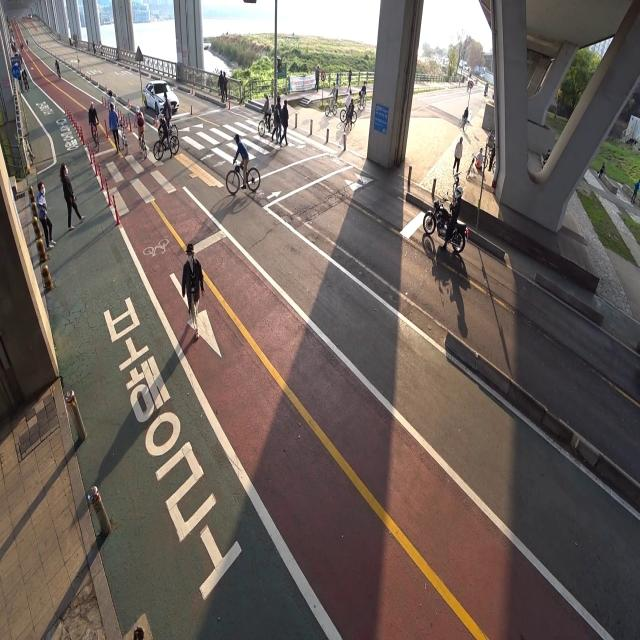Car: (141, 76, 183, 120)
Motorcycle: (422, 184, 467, 250)
